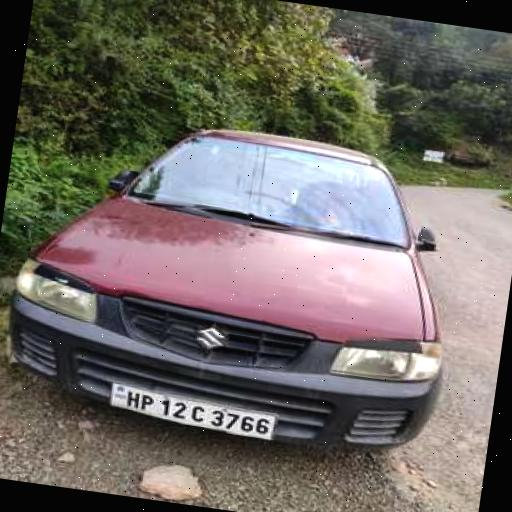license_plate`: (106, 379, 275, 440)
